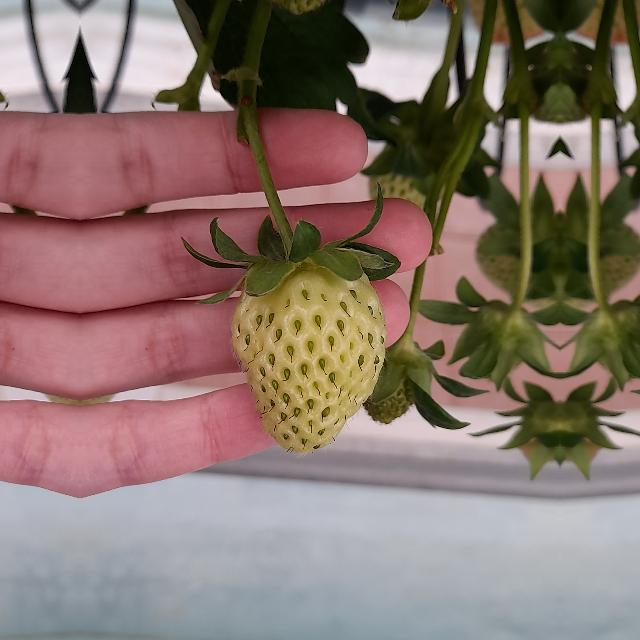Health_25: (230, 263, 386, 453)
